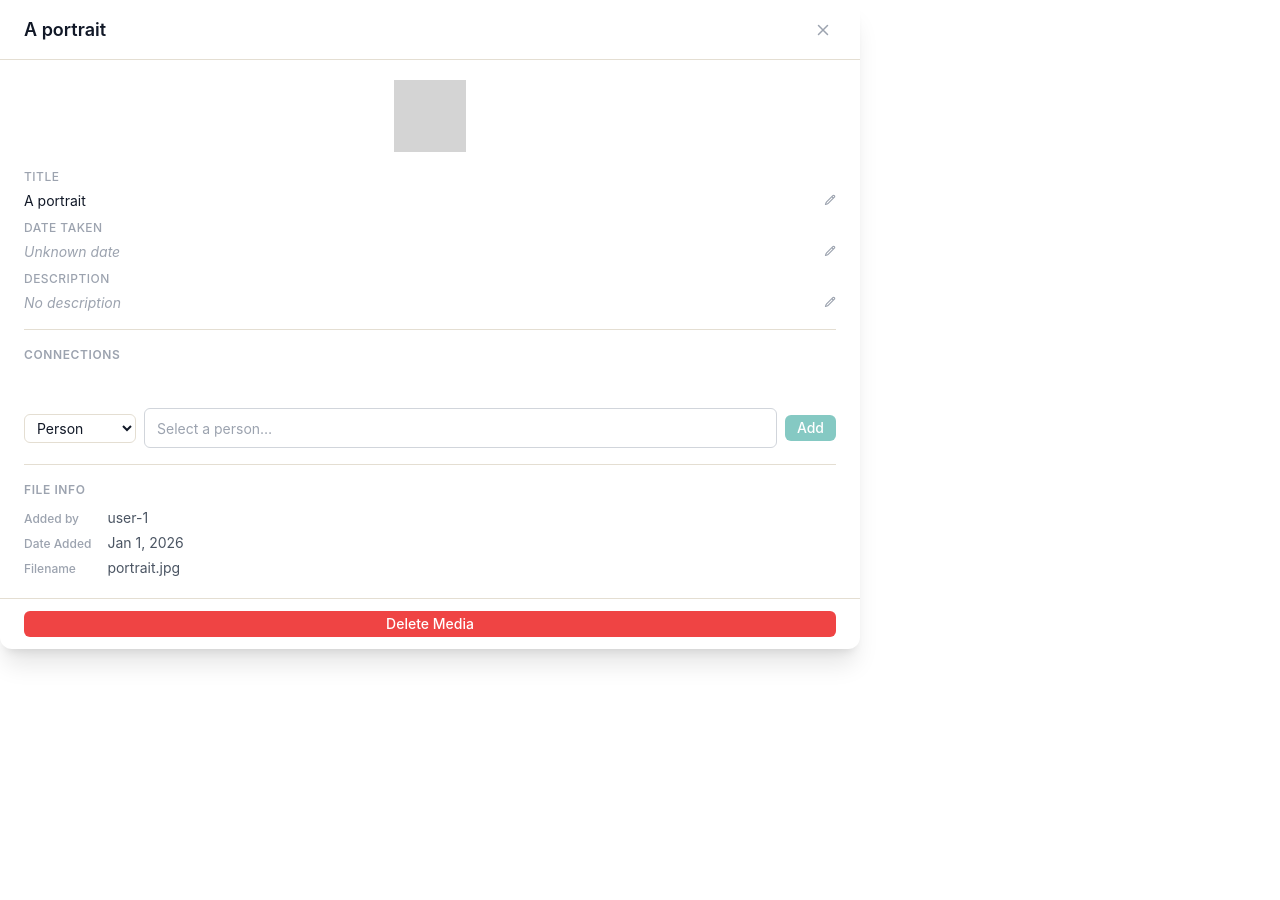
Scenario: MediaEditor — connecting a person › finds a person by typing part of their name
Click the button "Select a person…" at (215, 428), box 144,408 -> 777,448
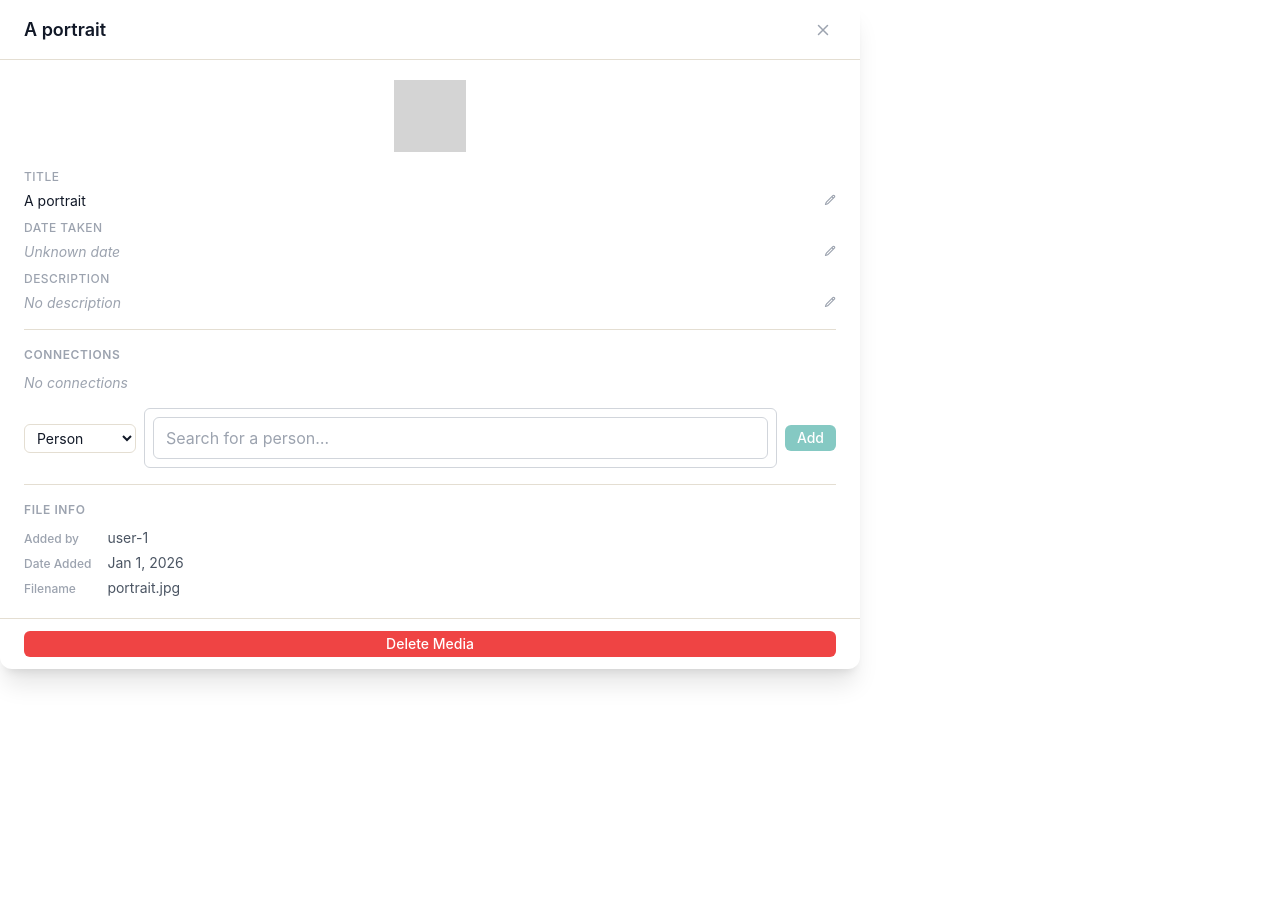
Type "Joan" into the field with placeholder "Search for a person…" at (460, 438), box 153,417 -> 768,459
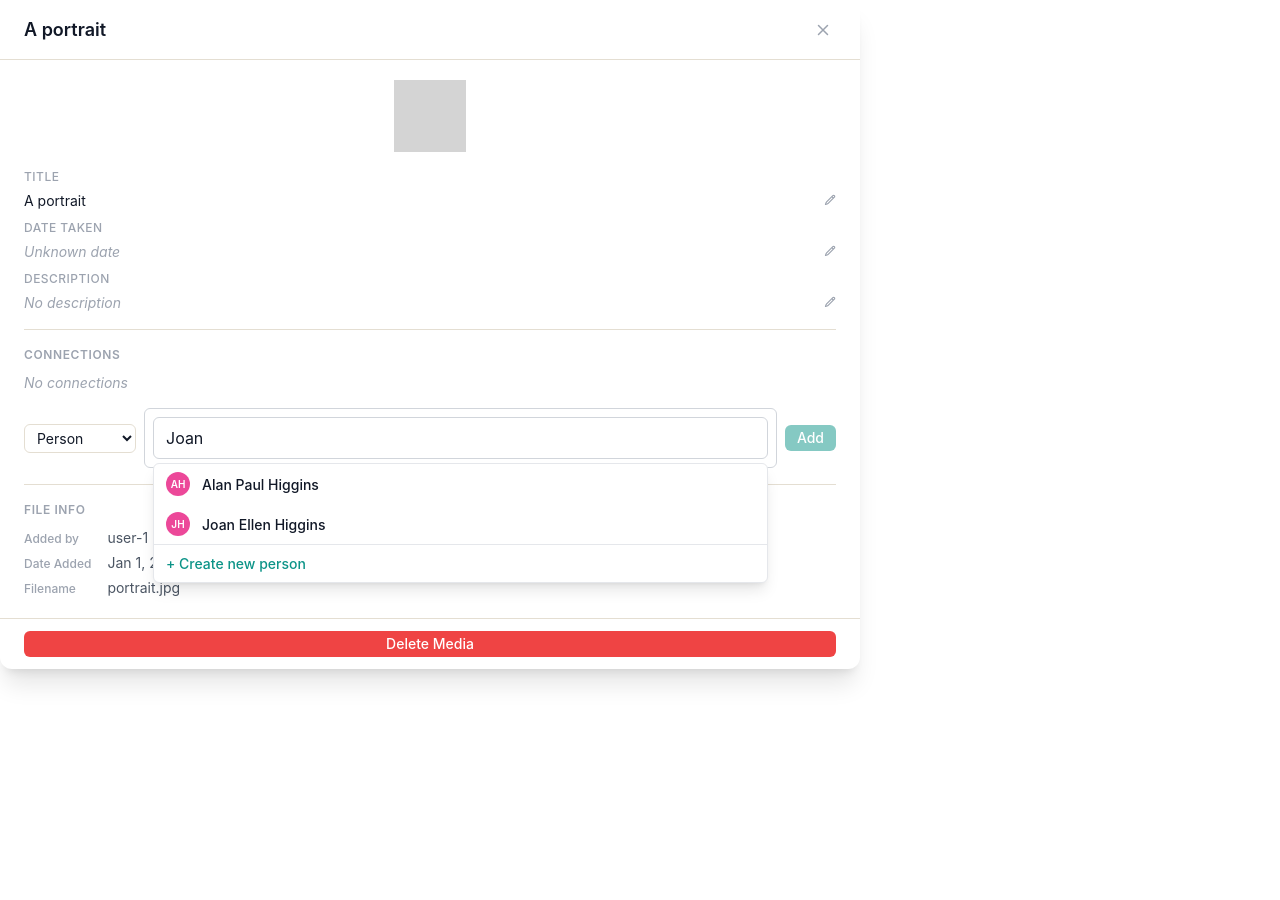
Click the text "Joan Ellen Higgins" at (264, 524), box 202,514 -> 325,534
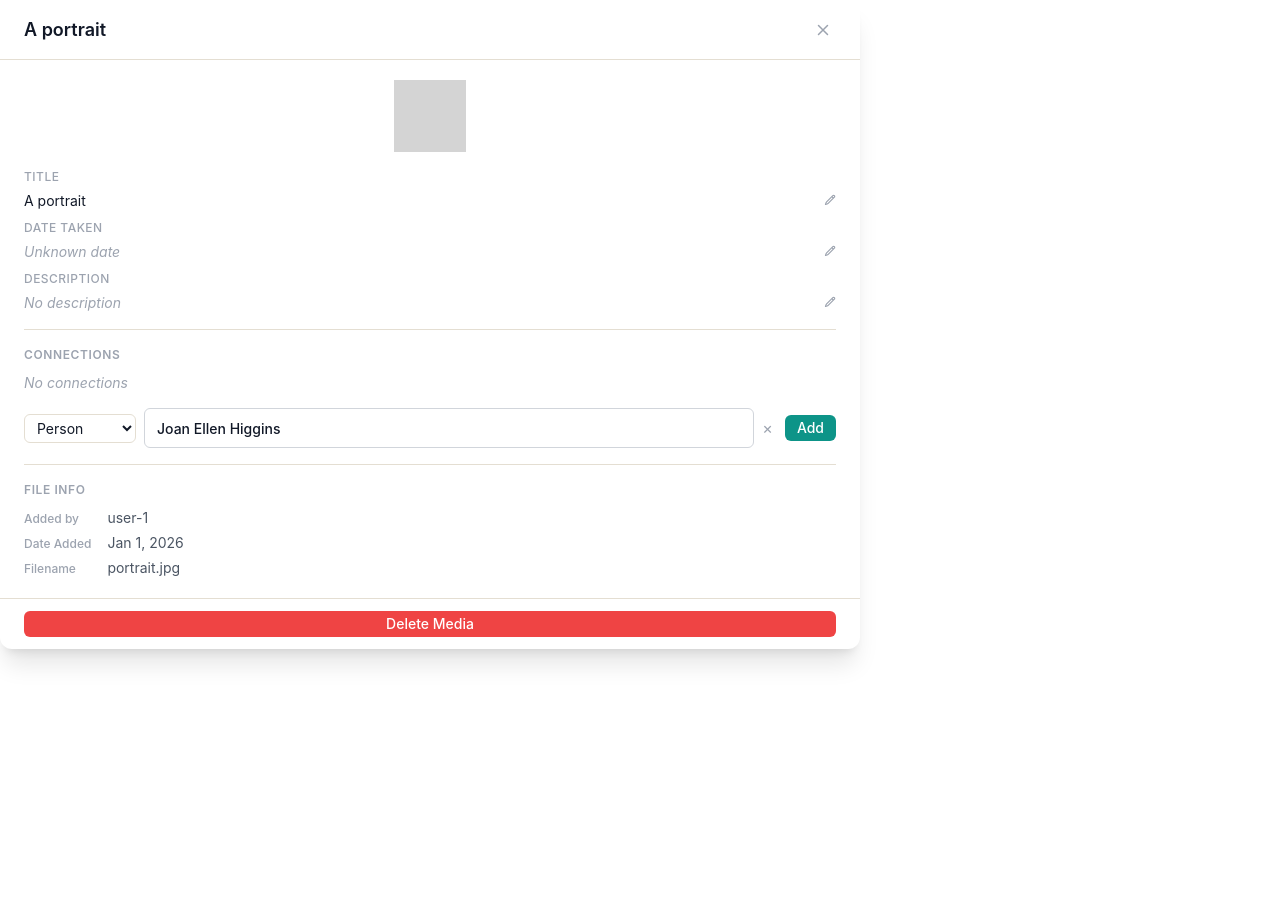
Result: the button "Joan Ellen Higgins" is shown at 144,408 -> 754,448
Result: the button "Add" is enabled at 785,415 -> 836,441
